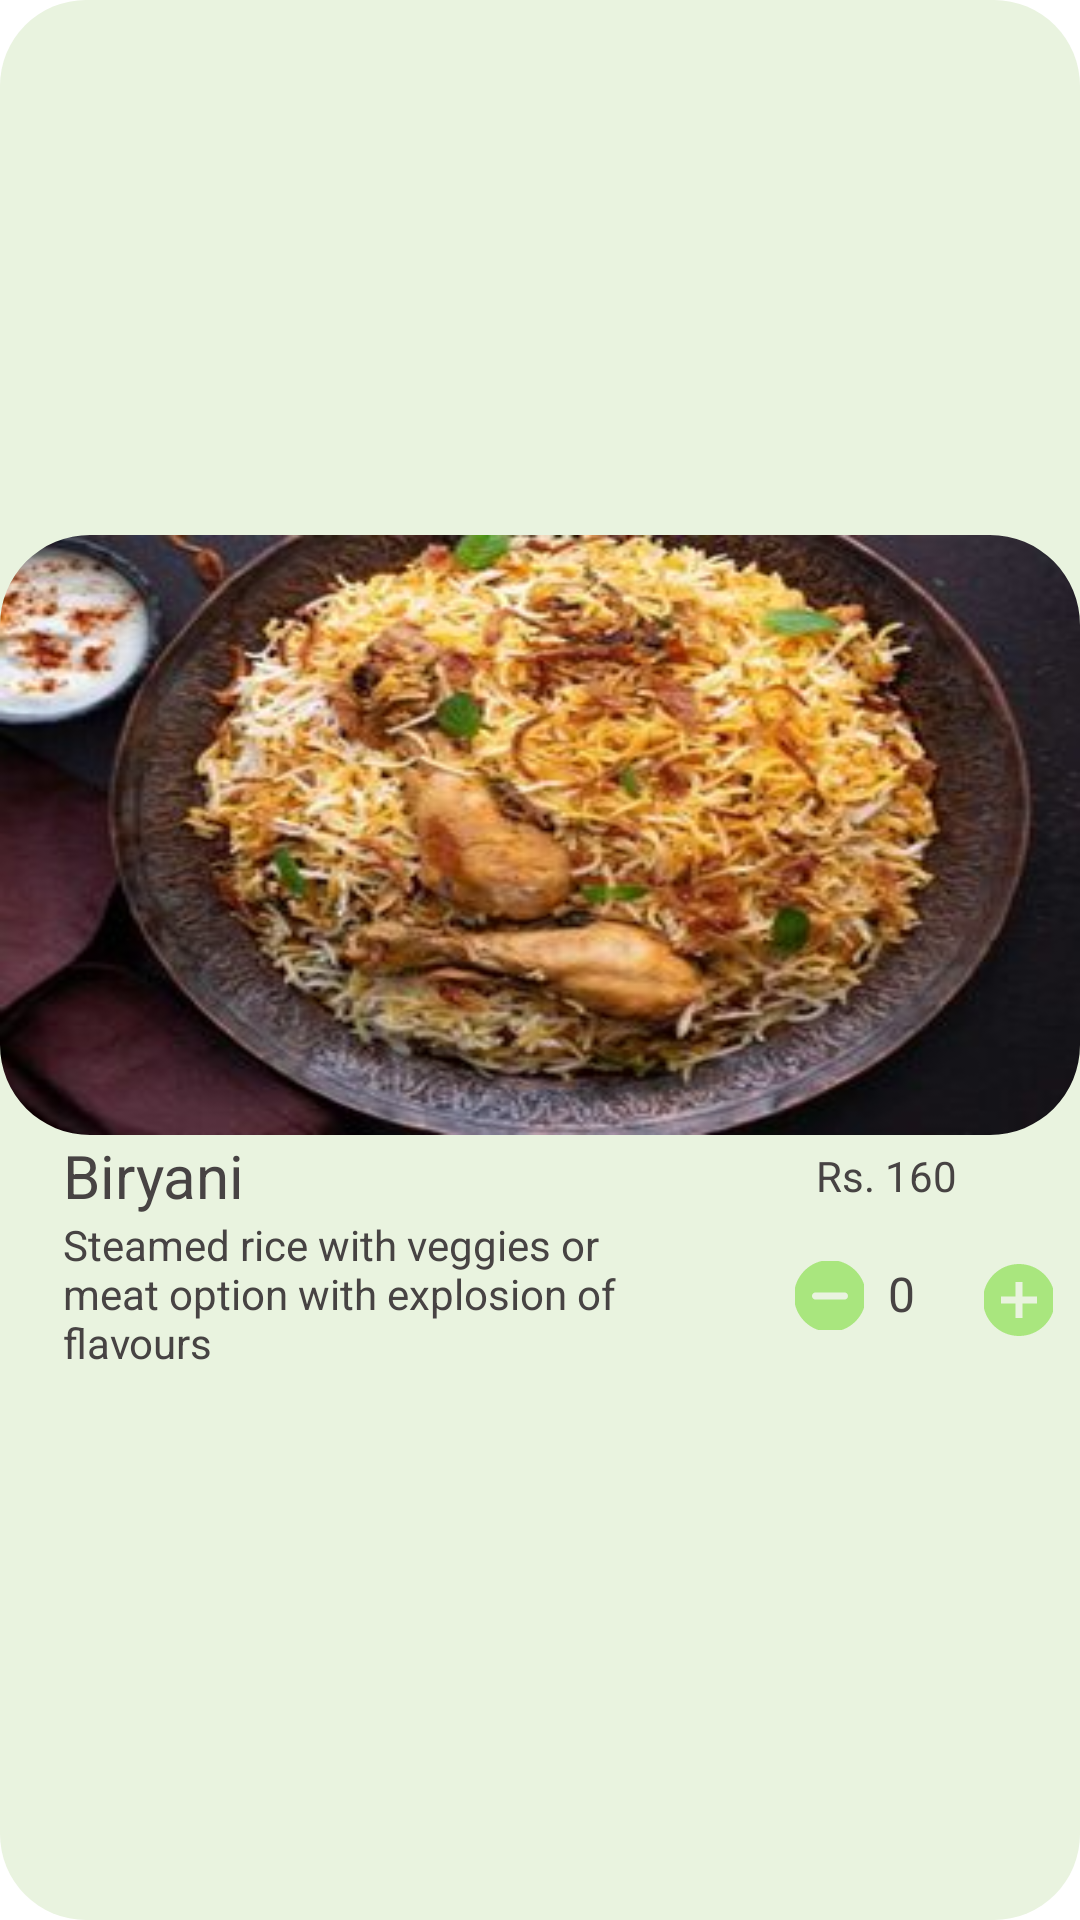

Icons on this 1080×1920 Android screen, each with the point to tap as (x,y):
minus: (829,1295)
plus: (1018,1300)
